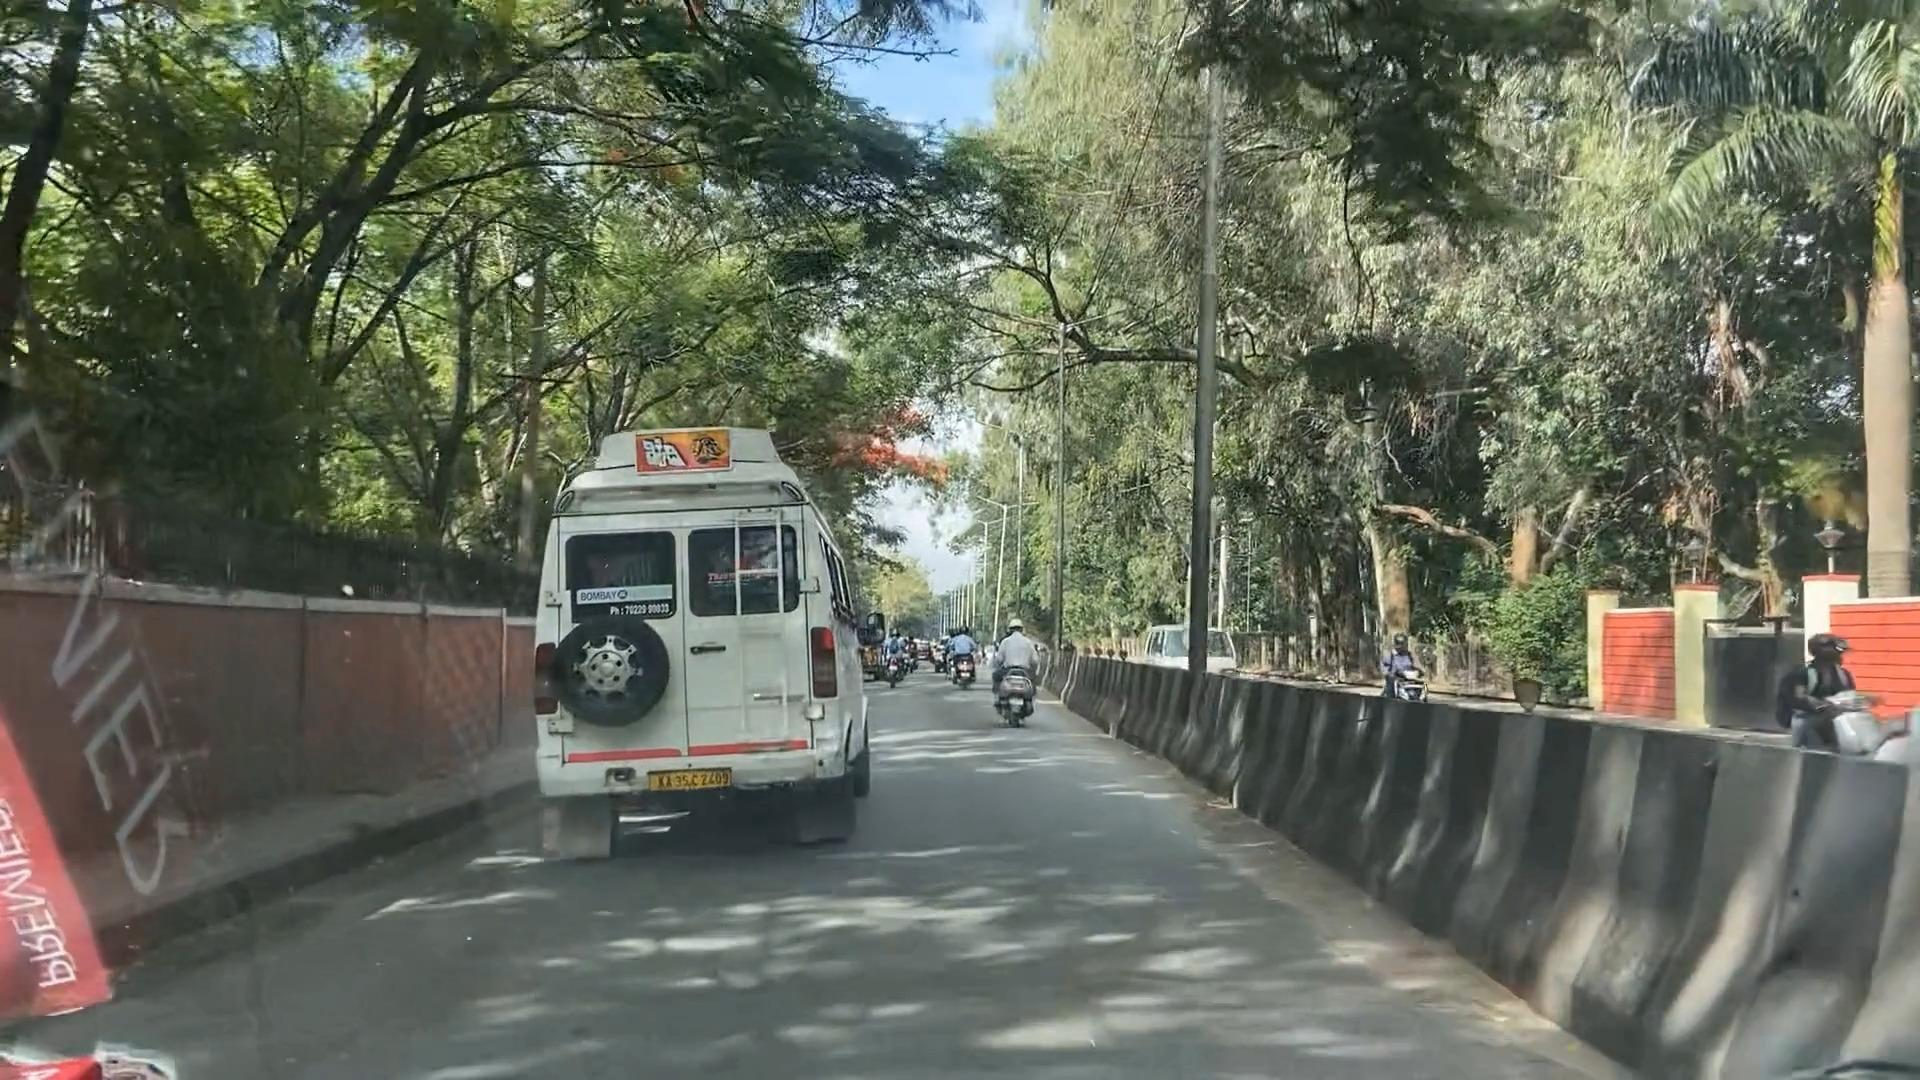HMV: (542, 452, 836, 847)
LMV: (996, 620, 1035, 723), (949, 624, 976, 684)
